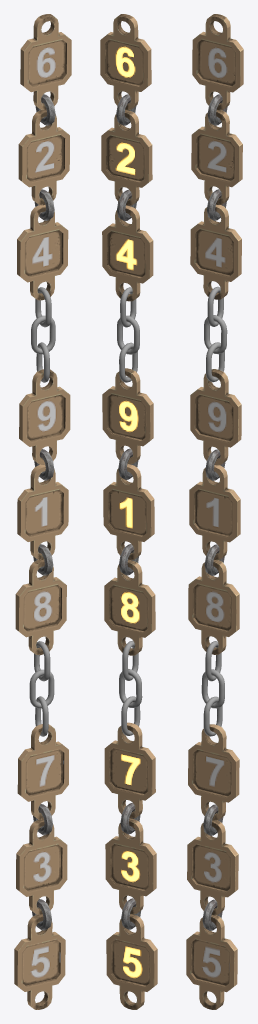
The model's file is lines.gltf.
The picture shows the model from 3 angles, left to right: view 1: azimuth 30°, elevation 25°; view 2: azimuth 150°, elevation 25°; view 3: azimuth 330°, elevation 25°; orthographic projection.
Parts seen in each view (by area): view 1: chain, lines_6, lines_5, lines_9, lines_8, lines_7, lines_1, lines_2, lines_3, lines_4; view 2: chain, lines_6, lines_5, lines_9, lines_8, lines_7, lines_4, lines_1, lines_2, lines_3; view 3: chain, lines_6, lines_5, lines_7, lines_9, lines_8, lines_4, lines_3, lines_2, lines_1.
Boxes of the visible parts, x1=… form: chain: x1=29, y1=94, x2=55, y2=930; lines_6: x1=20, y1=14, x2=71, y2=109; lines_5: x1=14, y1=914, x2=65, y2=1009; lines_9: x1=19, y1=369, x2=70, y2=464; lines_8: x1=15, y1=559, x2=66, y2=655; lines_7: x1=17, y1=724, x2=68, y2=819; lines_1: x1=17, y1=464, x2=68, y2=559; lines_2: x1=18, y1=110, x2=69, y2=205; lines_3: x1=16, y1=819, x2=67, y2=914; lines_4: x1=17, y1=205, x2=68, y2=300; chain: x1=116, y1=94, x2=142, y2=929; lines_6: x1=100, y1=14, x2=151, y2=109; lines_5: x1=106, y1=914, x2=157, y2=1009; lines_9: x1=102, y1=368, x2=153, y2=464; lines_8: x1=104, y1=559, x2=155, y2=655; lines_7: x1=104, y1=722, x2=155, y2=818; lines_4: x1=102, y1=205, x2=153, y2=301; lines_1: x1=103, y1=464, x2=154, y2=559; lines_2: x1=101, y1=109, x2=152, y2=205; lines_3: x1=105, y1=818, x2=156, y2=914; chain: x1=201, y1=94, x2=227, y2=930; lines_6: x1=192, y1=14, x2=243, y2=110; lines_5: x1=186, y1=915, x2=237, y2=1009; lines_7: x1=188, y1=724, x2=239, y2=820; lines_9: x1=190, y1=369, x2=241, y2=465; lines_8: x1=188, y1=560, x2=239, y2=654; lines_4: x1=190, y1=204, x2=241, y2=299; lines_3: x1=187, y1=820, x2=238, y2=915; lines_2: x1=191, y1=110, x2=242, y2=204; lines_1: x1=189, y1=465, x2=240, y2=559.
Size of the model in its own units: 0.2837 by 4.97 by 0.1567.
Materials: 10 (10 with a texture image).
